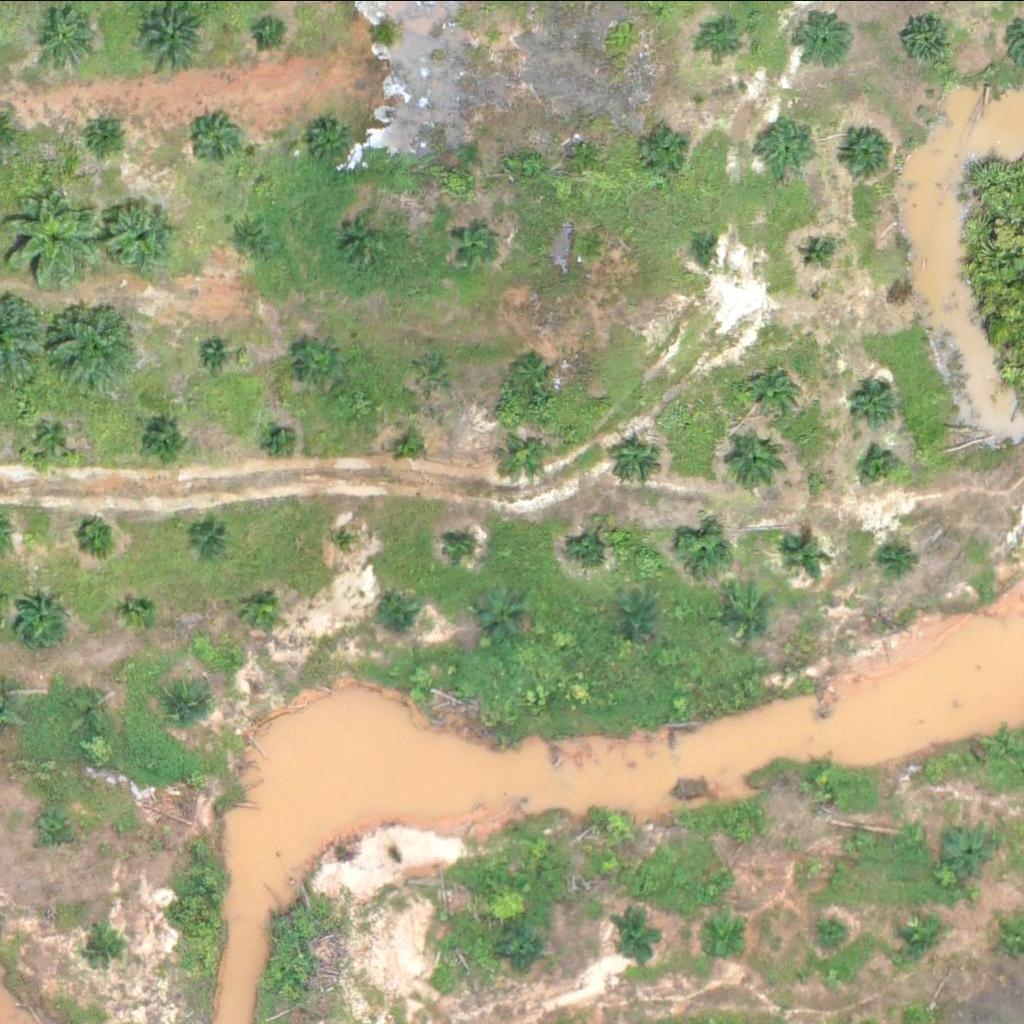Kelapa_Sawit: (98, 192, 186, 280), (47, 301, 135, 389), (742, 360, 805, 423), (36, 4, 99, 66), (838, 121, 901, 183), (756, 117, 819, 179), (13, 588, 76, 650), (724, 427, 787, 489), (507, 343, 558, 393), (800, 13, 851, 63), (901, 16, 952, 66), (637, 123, 688, 173), (895, 914, 946, 964), (501, 430, 552, 480), (240, 584, 291, 634), (947, 824, 997, 874), (572, 522, 622, 572), (681, 524, 731, 574), (614, 435, 664, 485), (850, 375, 900, 425), (615, 910, 665, 960), (705, 912, 755, 962), (194, 115, 244, 165), (308, 112, 358, 162), (447, 215, 497, 265), (340, 215, 390, 265), (226, 208, 276, 258), (296, 335, 346, 385), (136, 416, 186, 466), (480, 588, 530, 638), (500, 919, 550, 969), (27, 413, 77, 463), (731, 586, 781, 636), (706, 22, 744, 60), (985, 727, 1023, 765), (786, 537, 824, 575), (877, 536, 915, 574), (860, 449, 898, 487), (837, 823, 875, 861), (724, 813, 762, 851), (599, 807, 637, 845), (381, 596, 419, 634), (797, 231, 835, 268), (799, 760, 837, 797), (573, 226, 610, 264), (418, 352, 455, 390), (125, 593, 162, 631), (619, 597, 657, 634), (88, 928, 126, 965), (71, 686, 108, 724), (73, 514, 111, 551), (567, 134, 605, 171), (818, 914, 855, 951), (197, 518, 234, 555), (169, 686, 206, 723), (39, 809, 76, 846), (257, 20, 283, 45), (694, 237, 719, 262), (267, 429, 292, 454), (397, 436, 422, 461), (336, 524, 361, 549), (448, 530, 473, 555), (93, 119, 118, 144), (484, 21, 509, 46), (203, 342, 228, 366)
